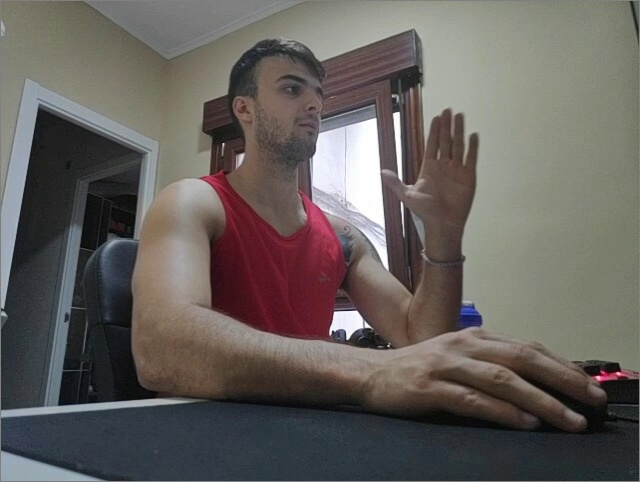Palm: (379, 105, 482, 230)
